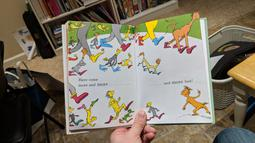text block: (76, 76, 111, 87), (162, 76, 195, 86)
